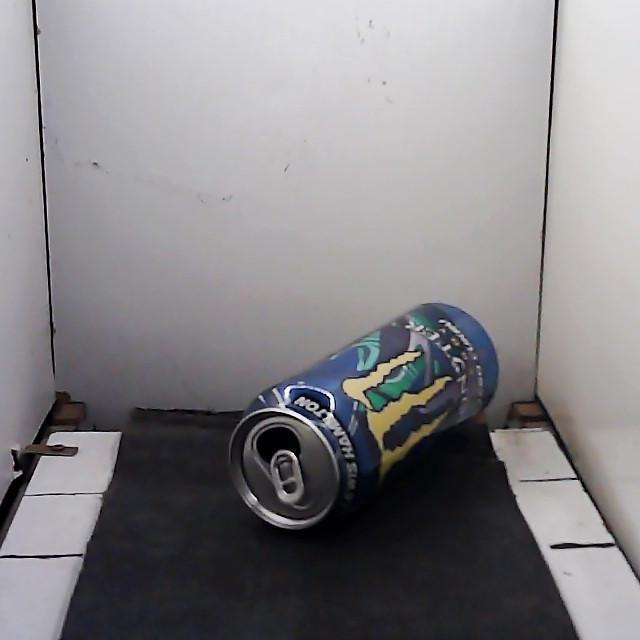metal: (228, 303, 498, 529)
